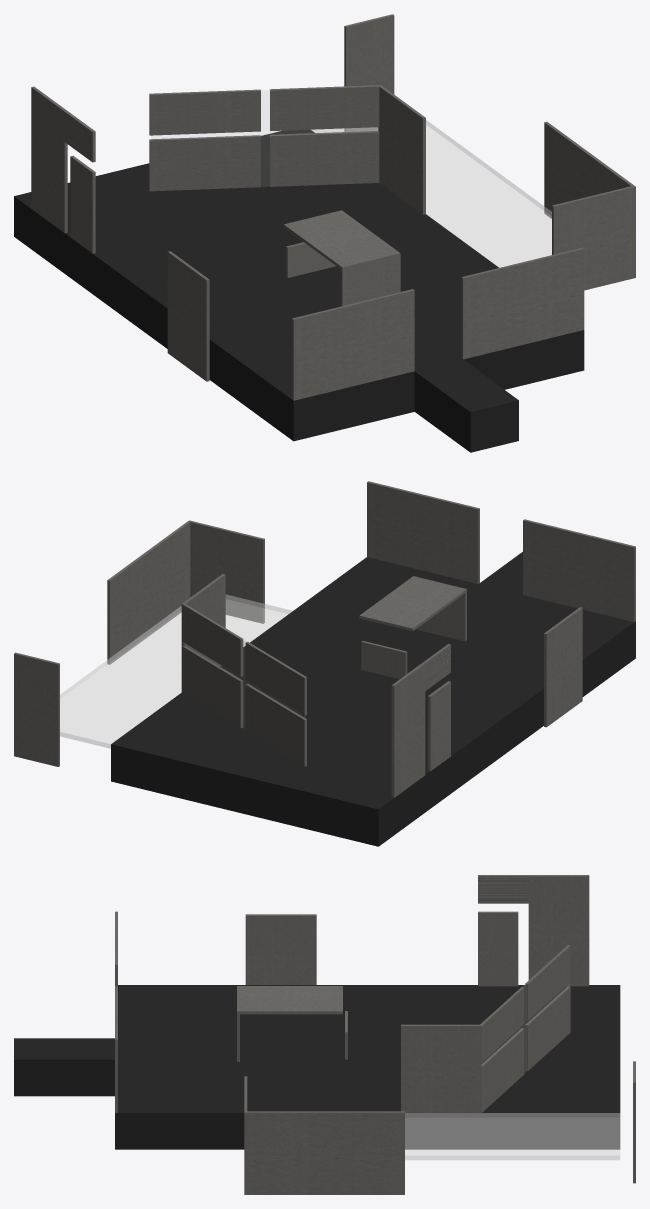
Rendered from gallery-set.glb.
The picture shows the model from 3 angles, top to bottom: view 1: azimuth 30°, elevation 25°; view 2: azimuth 150°, elevation 25°; view 3: azimuth 270°, elevation 25°; orthographic projection. The views are drawn at different scales.
Parts seen in each view (by area): view 1: Walls, Floor, GlassFloor, GlassWall; view 2: Floor, Walls, GlassFloor; view 3: Floor, Walls, GlassFloor.
Boxes of the visible parts, <box> form: Walls: <box>31,14,635,400</box>; Floor: <box>14,129,584,452</box>; GlassFloor: <box>312,120,551,267</box>; GlassWall: <box>151,90,377,186</box>; Floor: <box>111,552,635,846</box>; Walls: <box>14,481,635,797</box>; GlassFloor: <box>60,594,292,748</box>; Floor: <box>14,985,620,1149</box>; Walls: <box>115,875,635,1194</box>; GlassFloor: <box>405,1113,620,1160</box>.
Size of what is drawn, in the model's own units: 44.22 by 16 by 61.55.
Materials: 4 (1 with a texture image).
